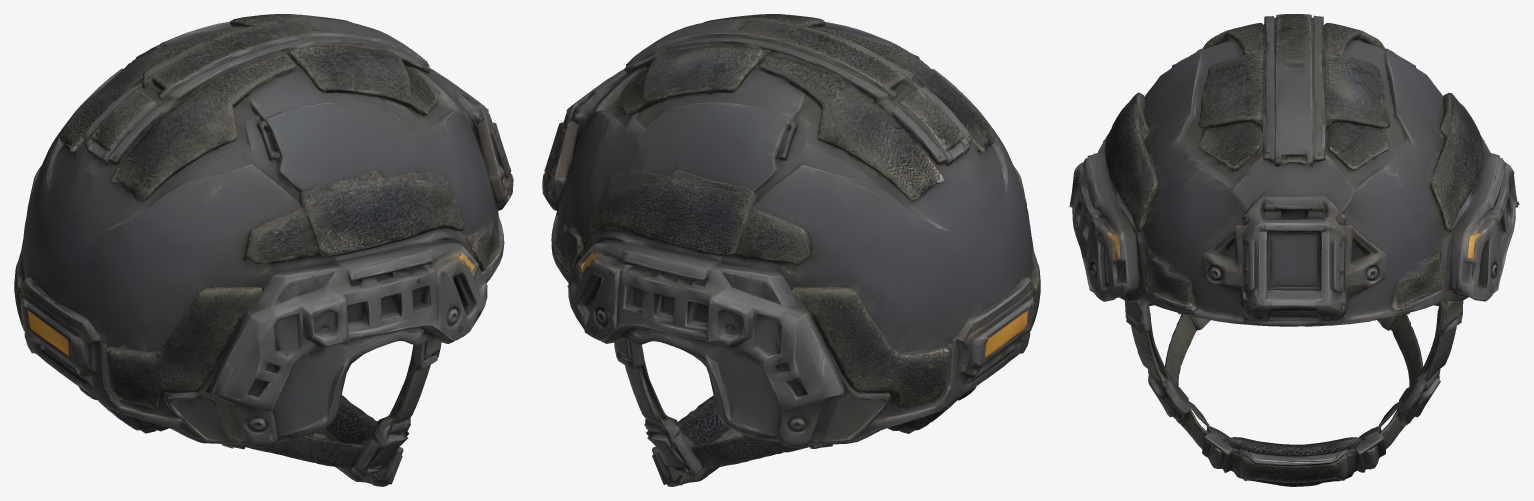
Rendered from tactical-helmet-v1.glb.
3 renders of one model, left to right at view 1: azimuth 30°, elevation 25°; view 2: azimuth 150°, elevation 25°; view 3: azimuth 270°, elevation 25°, orthographic. The views are drawn at different scales.
Visible parts, largest first — view 1: tripo_node_b78eeea1-6b1d-4986-8032-7fc53b6fbaa5; view 2: tripo_node_b78eeea1-6b1d-4986-8032-7fc53b6fbaa5; view 3: tripo_node_b78eeea1-6b1d-4986-8032-7fc53b6fbaa5.
Part boxes in pixels (x1,y1,x2,y2): tripo_node_b78eeea1-6b1d-4986-8032-7fc53b6fbaa5: (14,14,513,486); tripo_node_b78eeea1-6b1d-4986-8032-7fc53b6fbaa5: (542,14,1040,486); tripo_node_b78eeea1-6b1d-4986-8032-7fc53b6fbaa5: (1069,14,1519,486).
Bounding box in the file's own units: 0.9791 × 0.9541 × 0.9492.
Materials: 1 (1 with a texture image).
